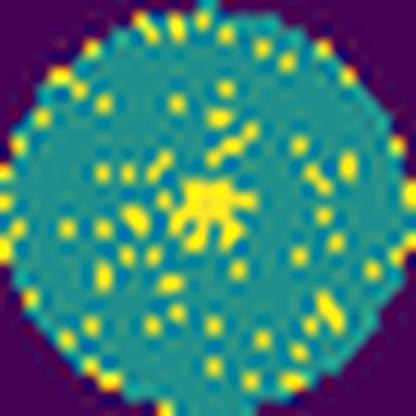Center: (152, 176, 257, 258)
